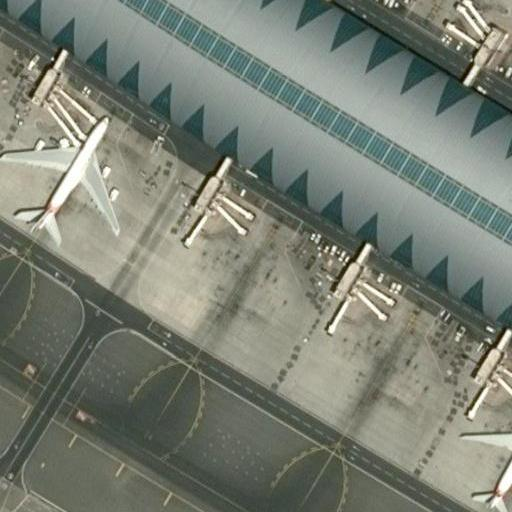Aircraft: (0, 101, 128, 265), (455, 378, 512, 512)
